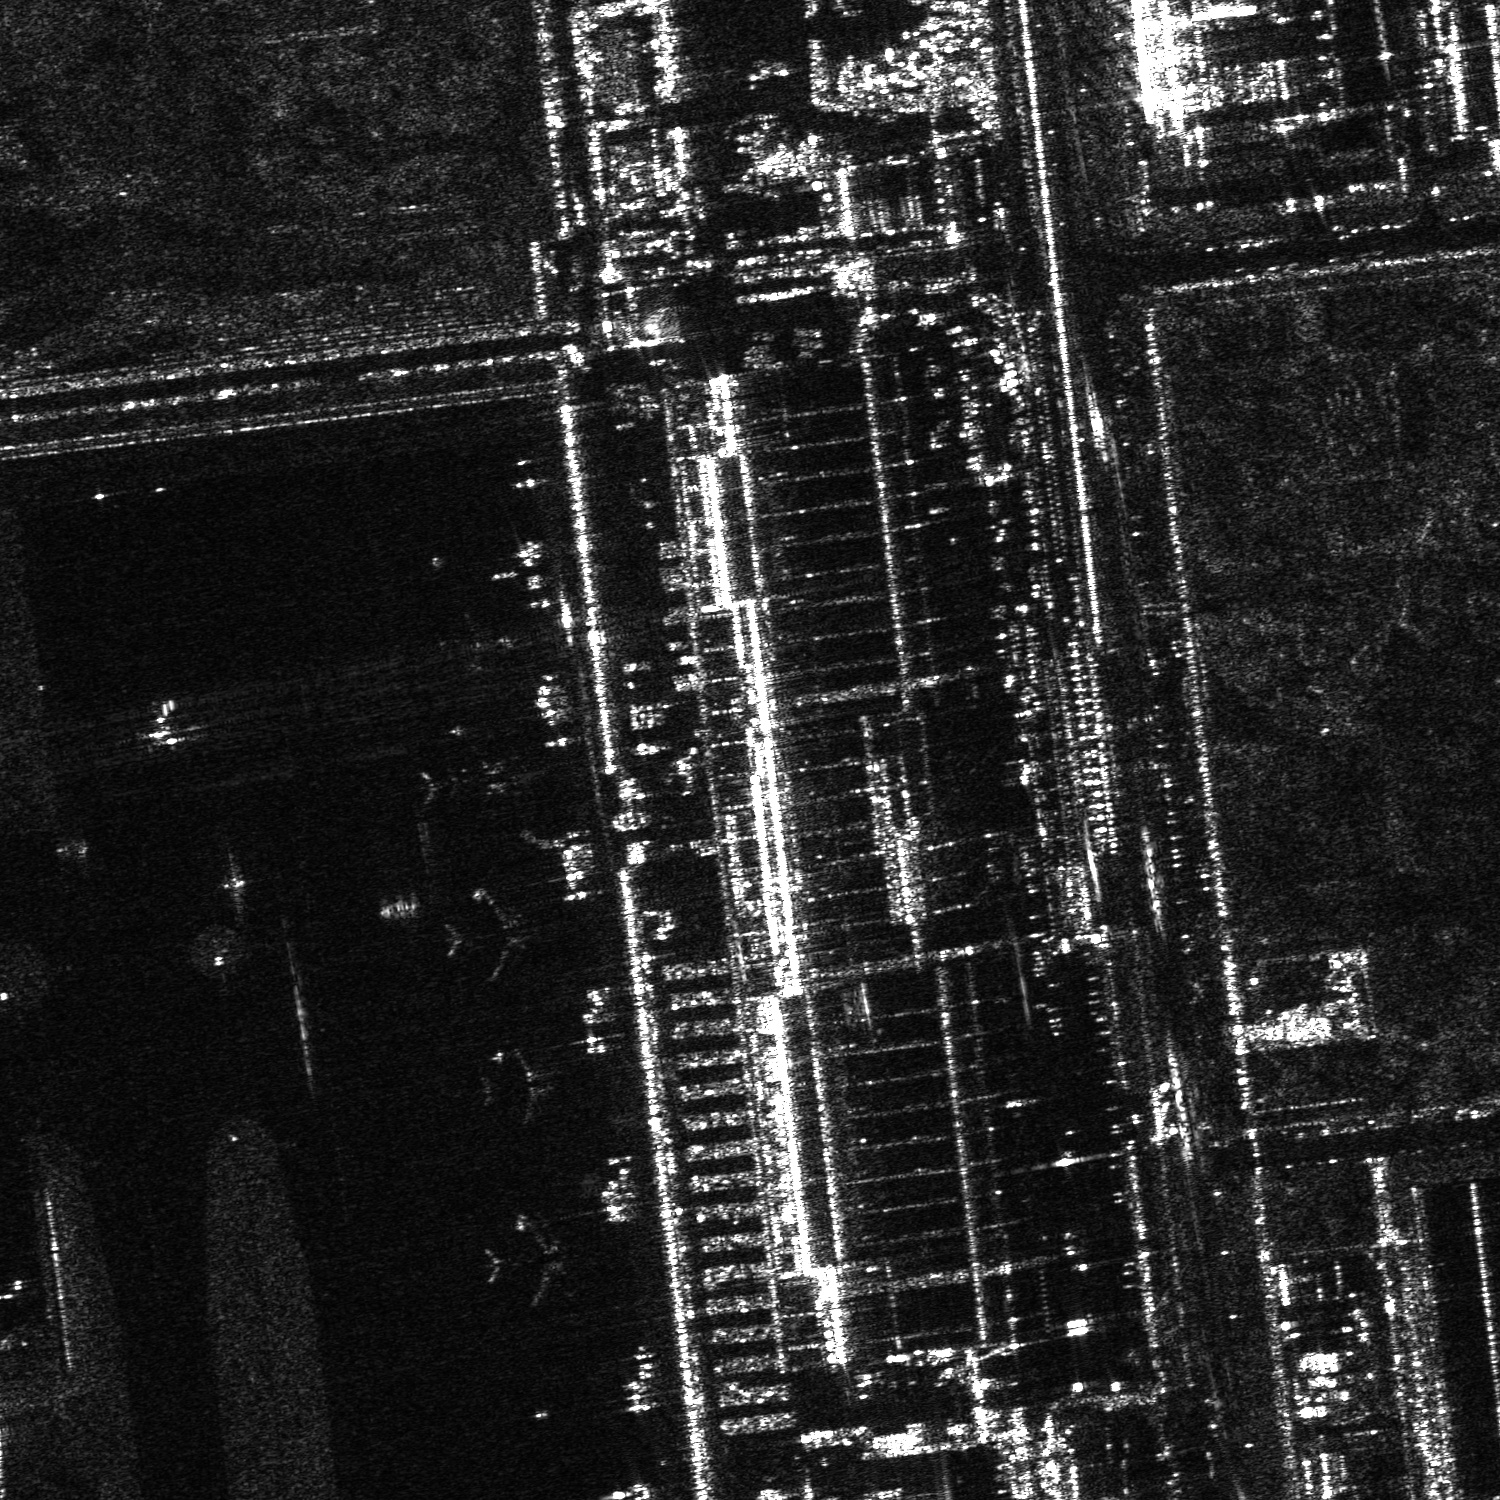Boeing787: (474, 1205, 588, 1316), (445, 886, 552, 985), (429, 729, 526, 815), (482, 1043, 560, 1132)
other: (433, 611, 516, 679), (139, 699, 196, 753)
